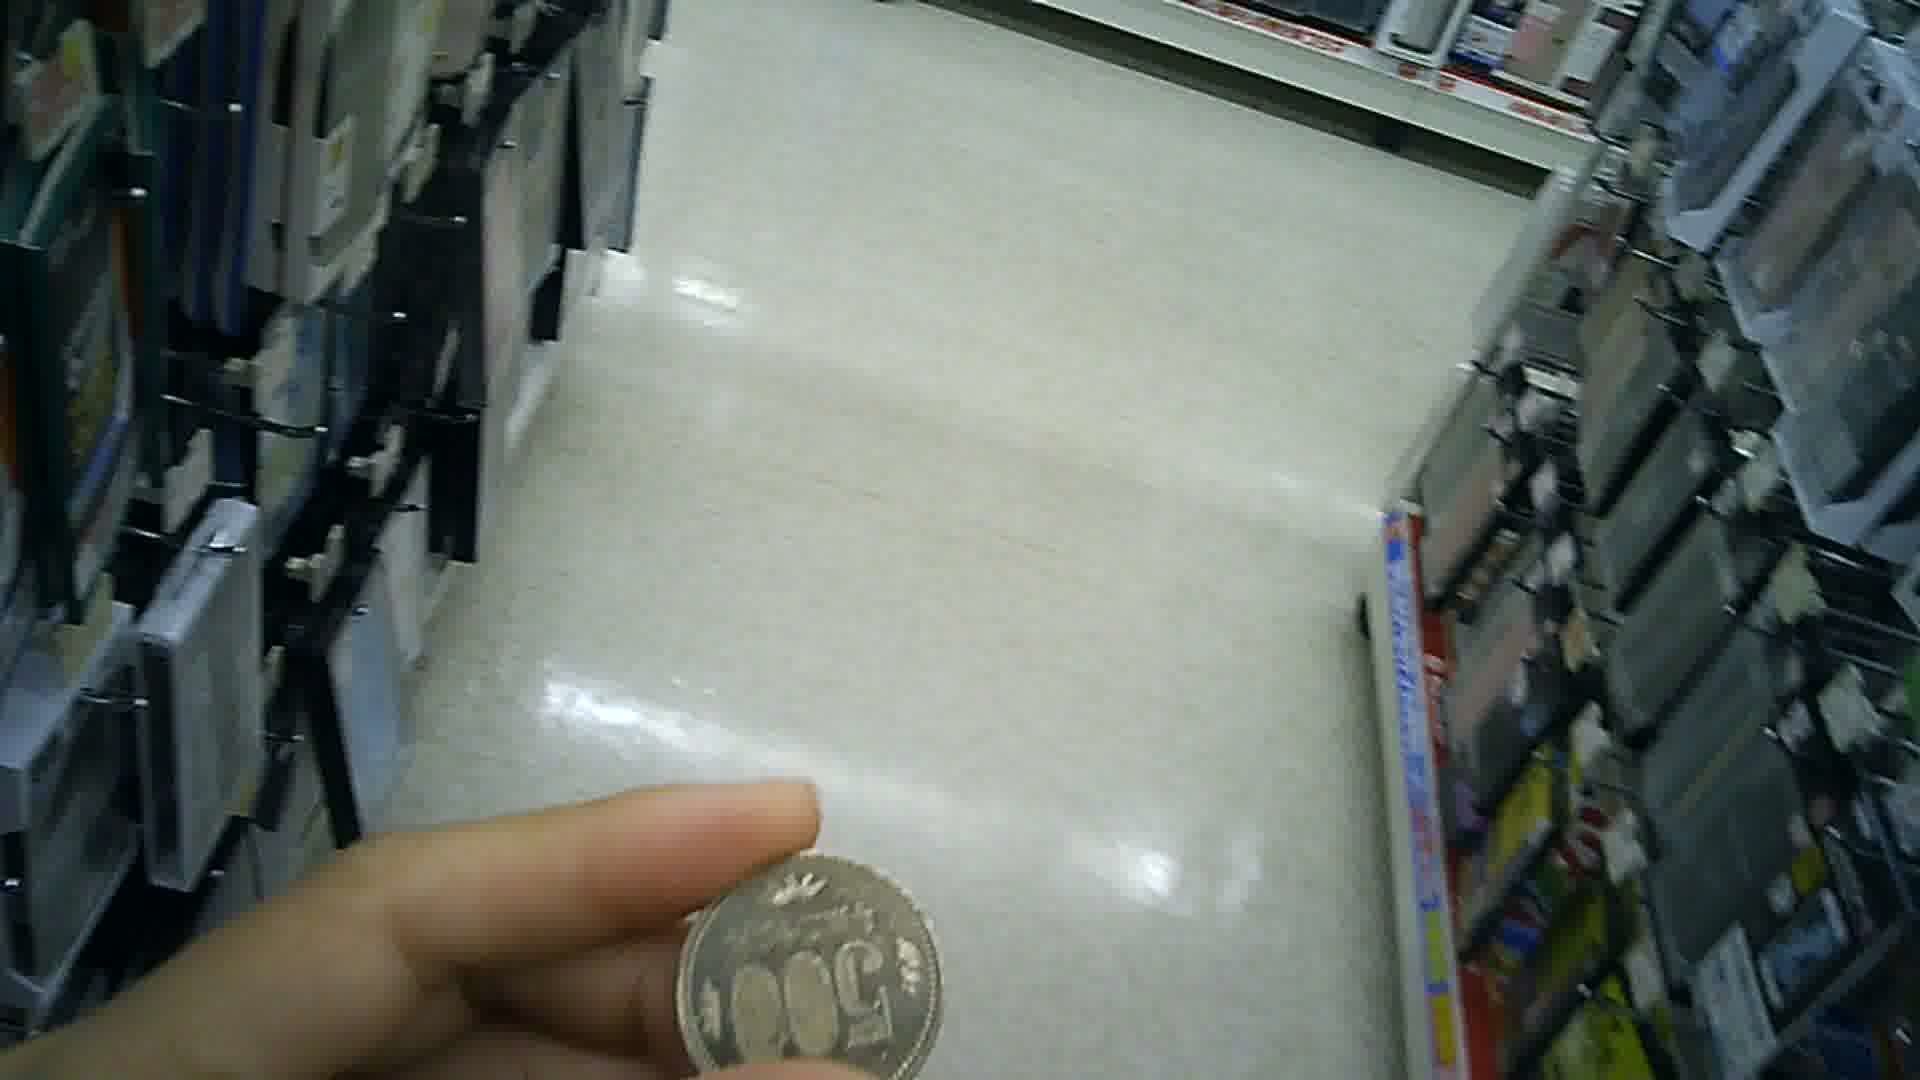500 Yen: (666, 836, 942, 1079)
